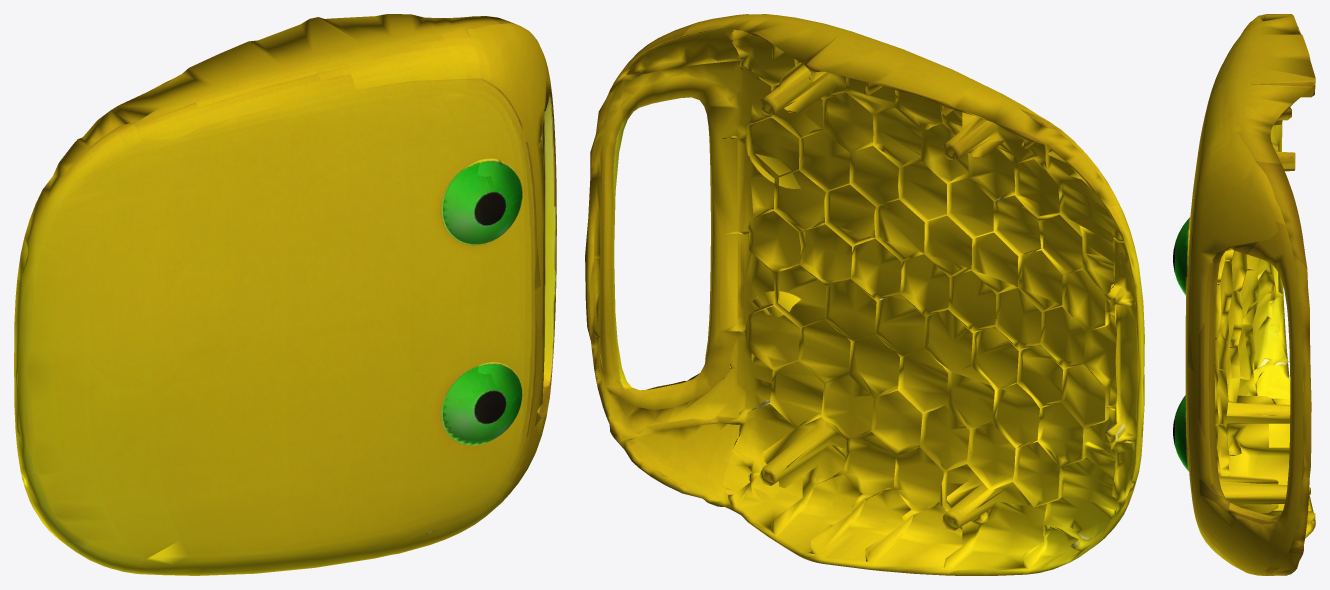
The model's file is upper_shell_link.obj.
3 views of the same model, side by side, from view 1: azimuth 30°, elevation 25°; view 2: azimuth 150°, elevation 25°; view 3: azimuth 270°, elevation 25° (orthographic). The views are drawn at different scales.
Parts seen in each view (by area): view 1: input; view 2: input; view 3: input.
Boxes of the visible parts, x1,y1,x2,y2 form: input: [14, 14, 556, 575]; input: [585, 14, 1144, 575]; input: [1173, 14, 1315, 575].
Bounding box in the file's own units: 0.2055 × 0.1814 × 0.0524.
Materials: 1 (1 with a texture image).
